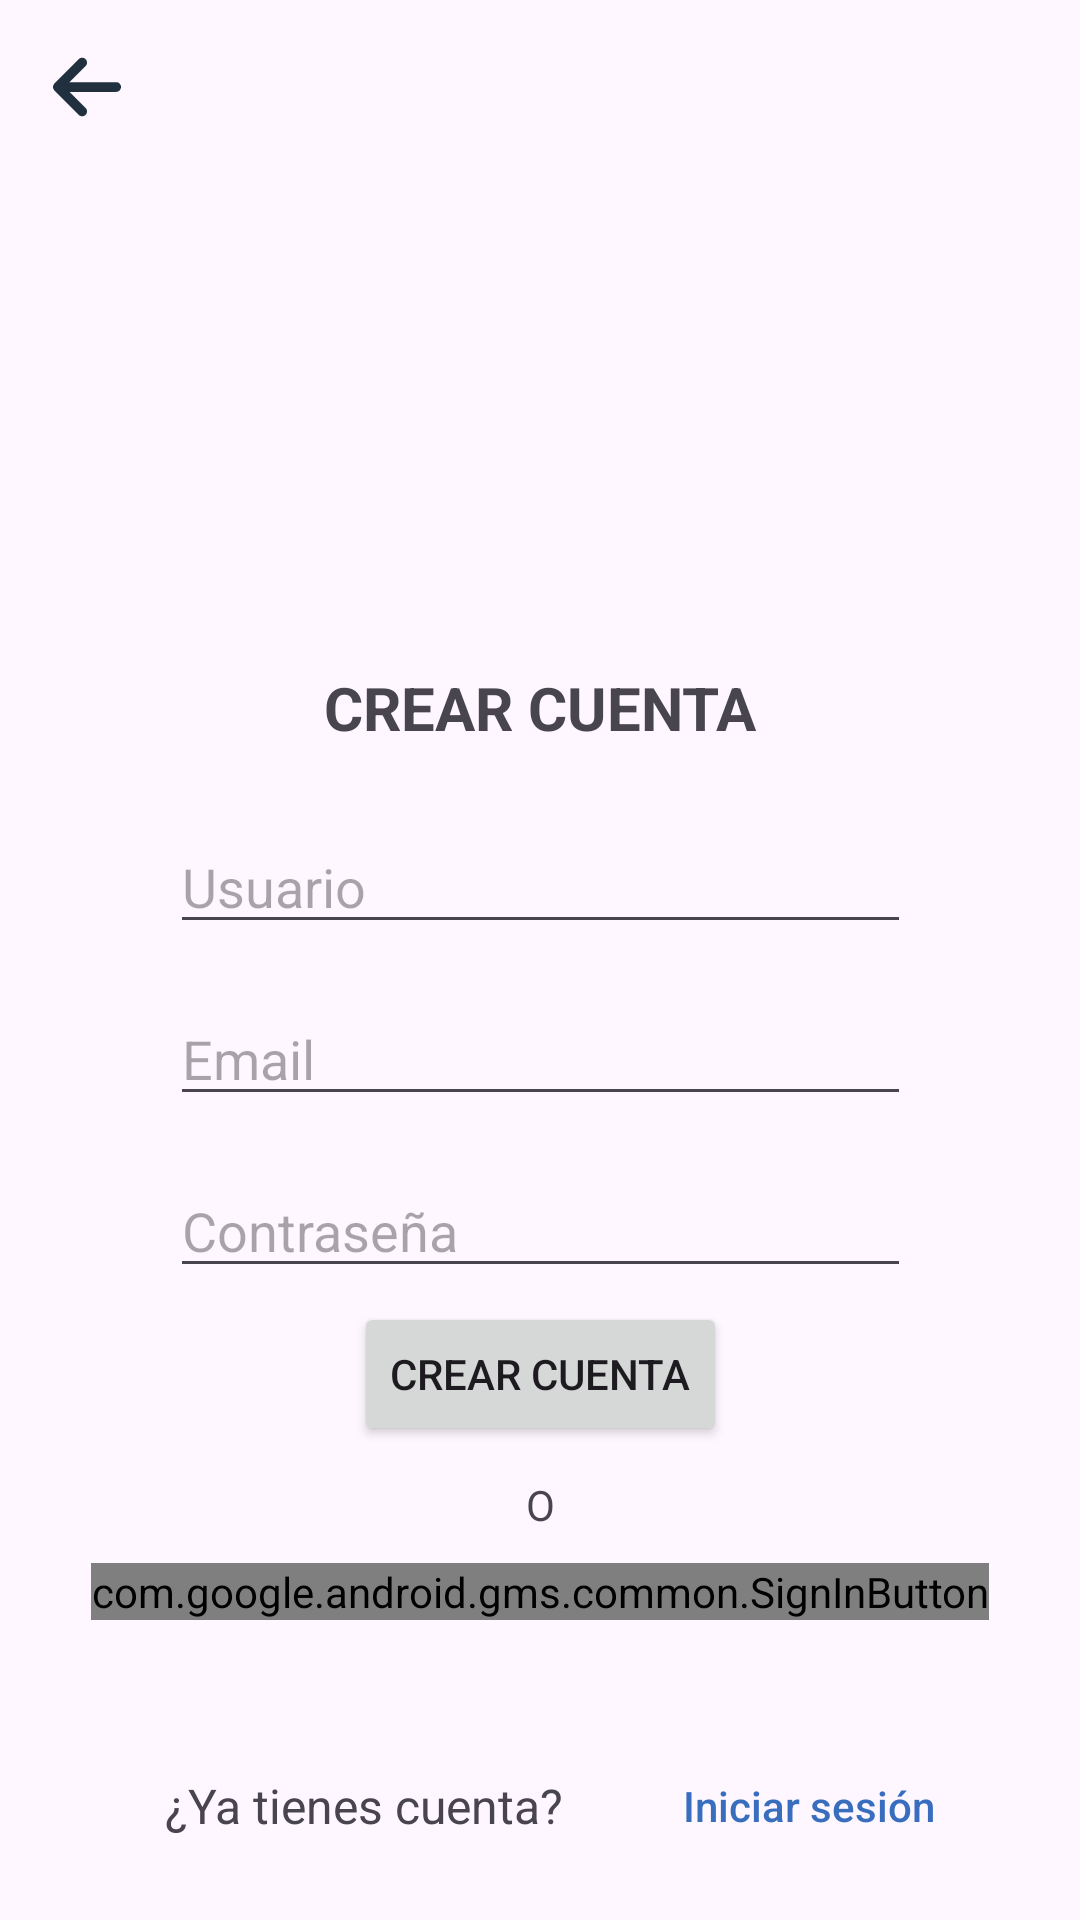

Icons on this 1080×1920 Android screen, each with the point to tap as (x=x, y=y):
go back arrow: (x=87, y=87)
